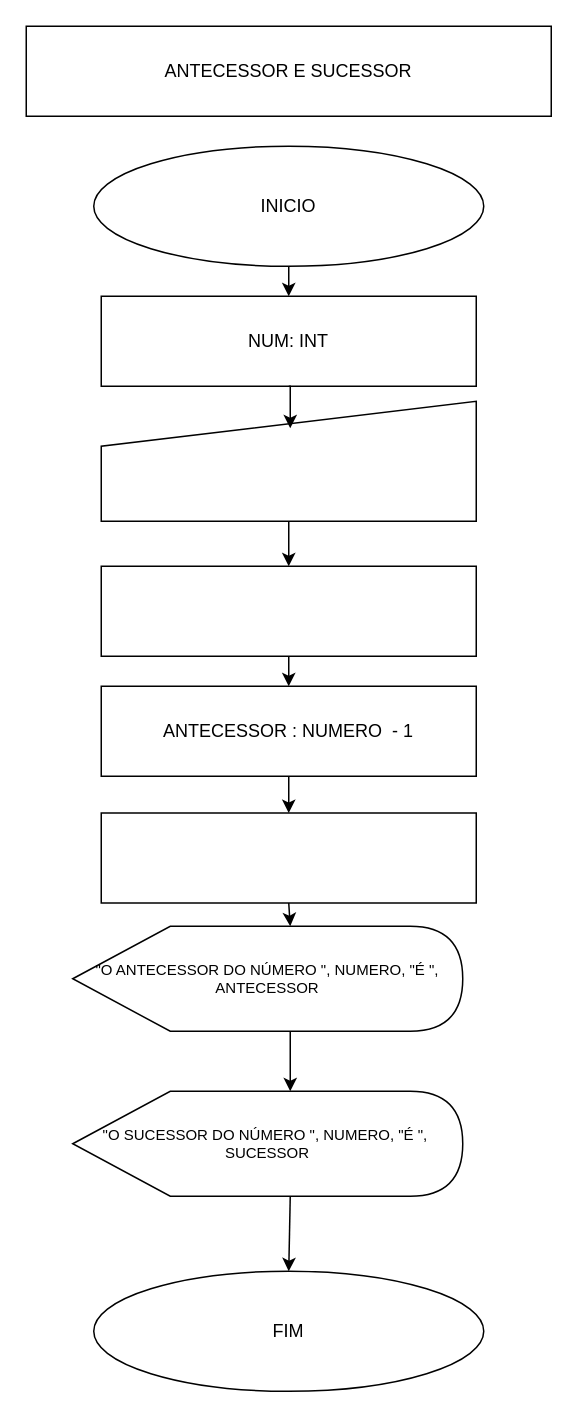
Some shapes in this 578 by 1418 pixel diagram are drawn without their labels. Each missing label, with the centre of its shape:
ESCREVA O VALOR DE NUM: the point at 288,460
LEIA NUM: the point at 288,610
SUCESSOR: NUMERO + 1: the point at 288,857
